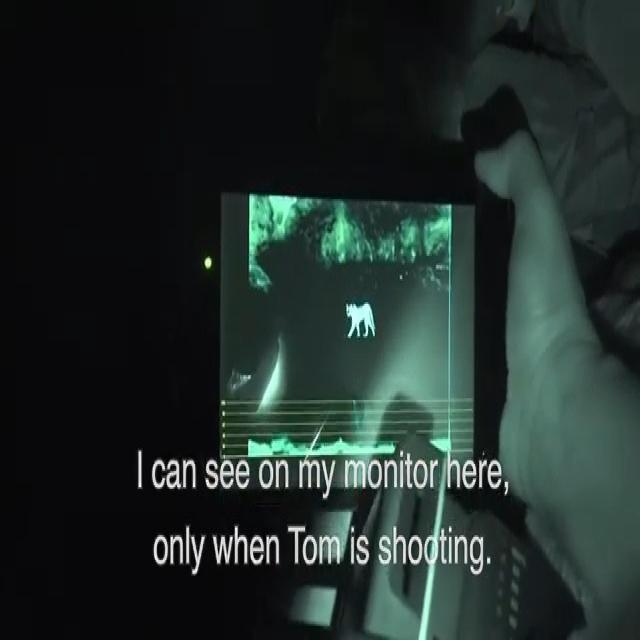animal: (335, 286, 388, 355)
device: (156, 134, 520, 534)
